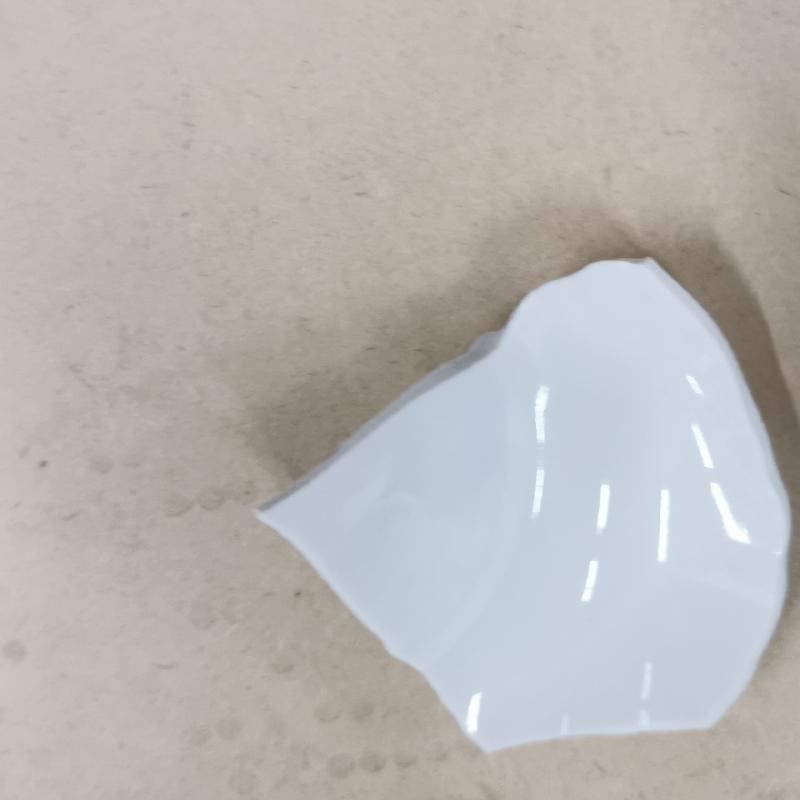ceram: (252, 252, 800, 754)
